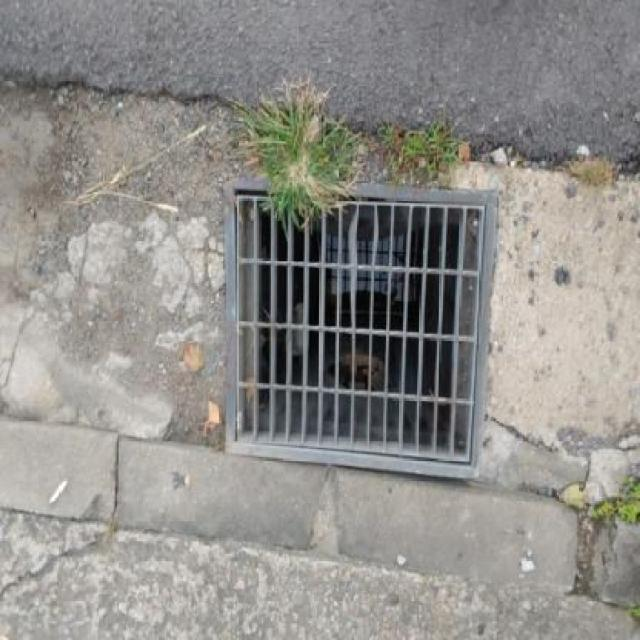Drain Hole: (217, 193, 513, 469)
